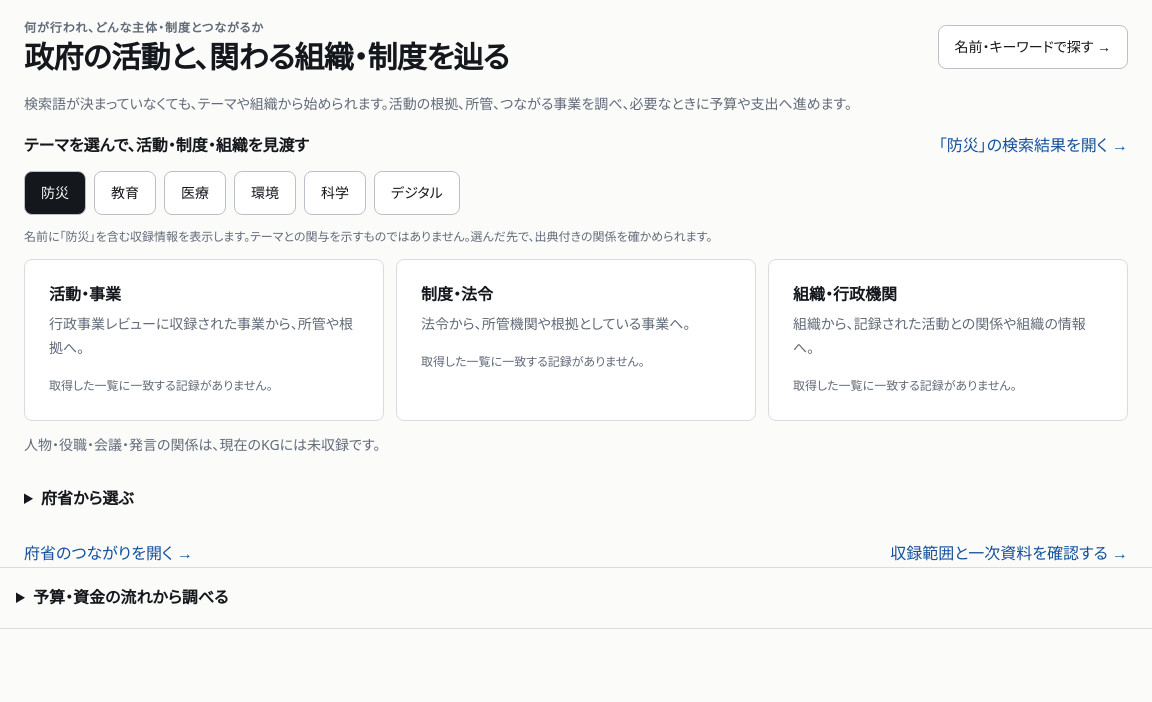
Scenario: TopPage(トップページ再設計) › ヒーロー: 当初予算・執行率・国が自ら支払った額(下限)を実データの値で出す
Step 1. Click the heading "予算・資金の流れから調べる" → point(131, 597), box [0,567,1151,629]
(page scrolled)
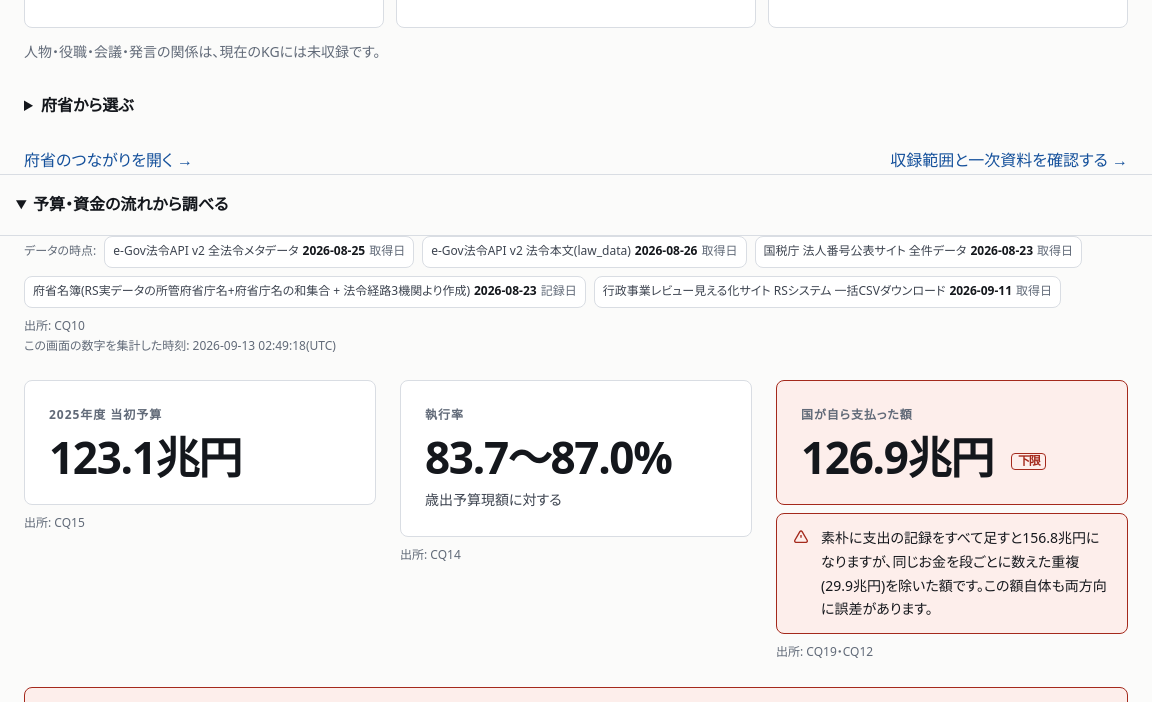
expect the text "2025年度 当初予算" is shown: met, box [49,406,162,423]
expect the text "123.1兆円" is shown: met, box [49,427,241,487]
expect the text "83.7〜87.0%" is shown: met, box [425,427,672,487]
